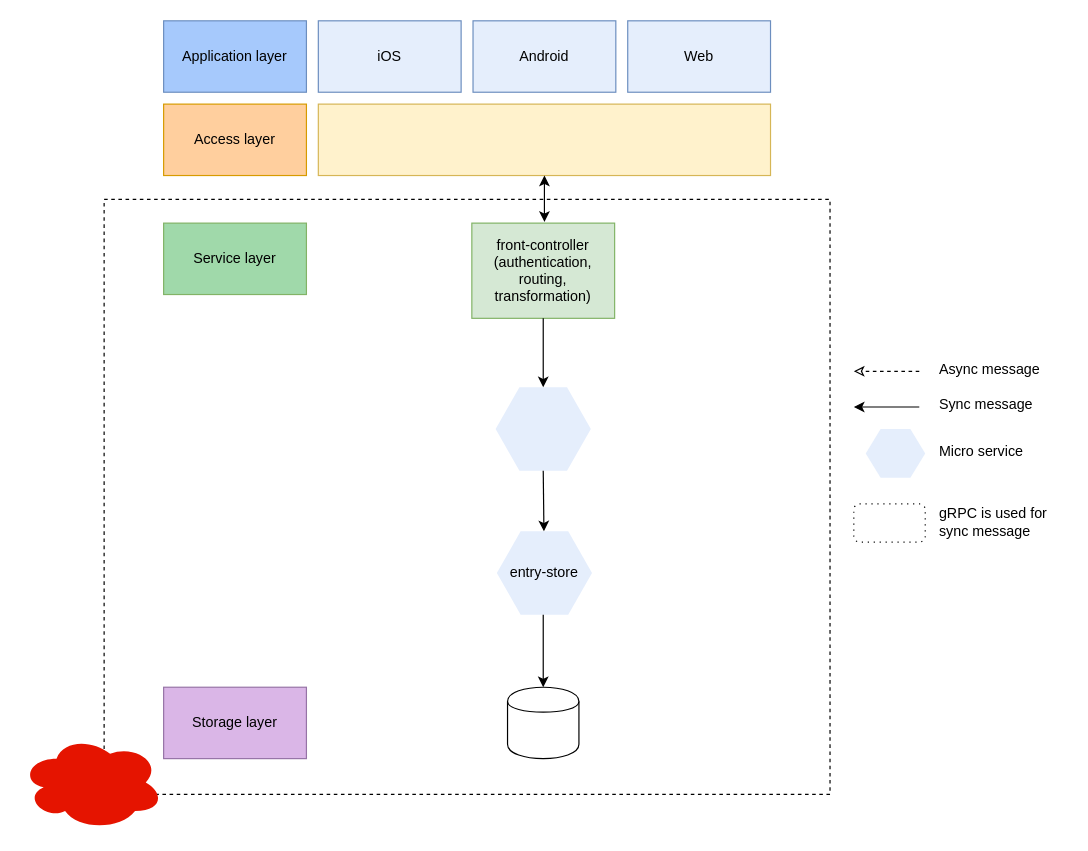
Image size: 1088x851. Some labels were removed from this diagram. The shapes that lost their labels are listed below. From the top down, each one's centre as x and y in pixels, then its label:
At (544,139): "API".
At (542,428): "entry-cache".
At (889,522): "gRPC".
At (542,722): "MySQL".
At (91,781): "Google Cloud".
